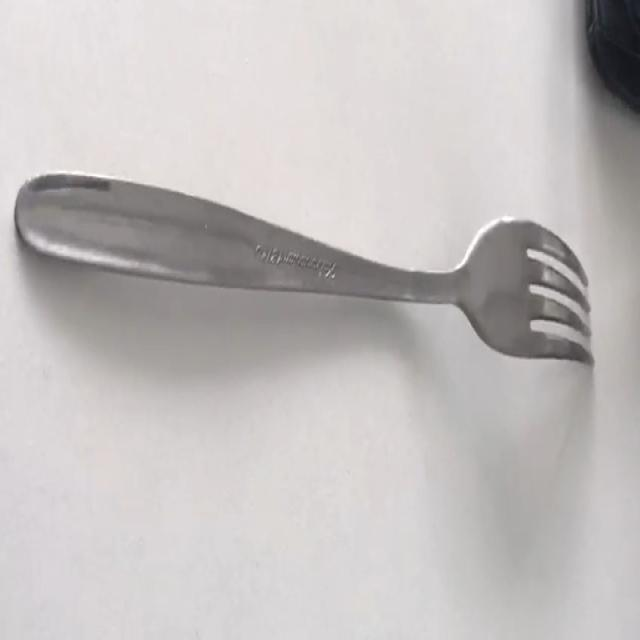spoon: (15, 177, 592, 363)
